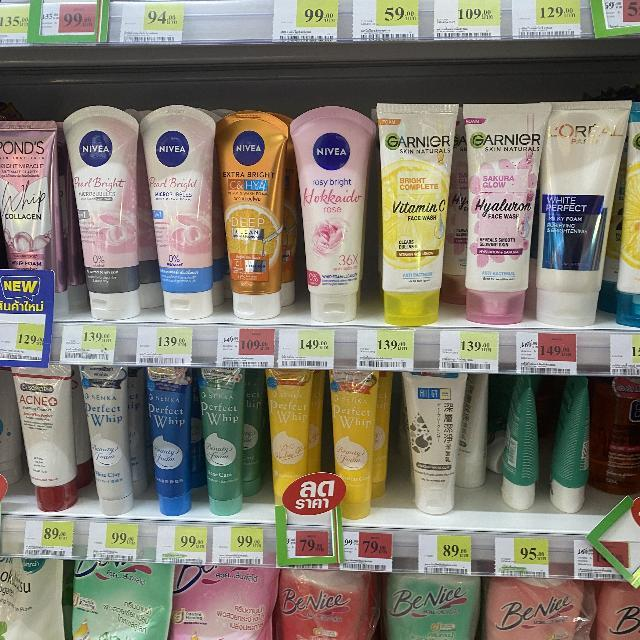Squeeze Tube: (0, 67, 640, 571)
